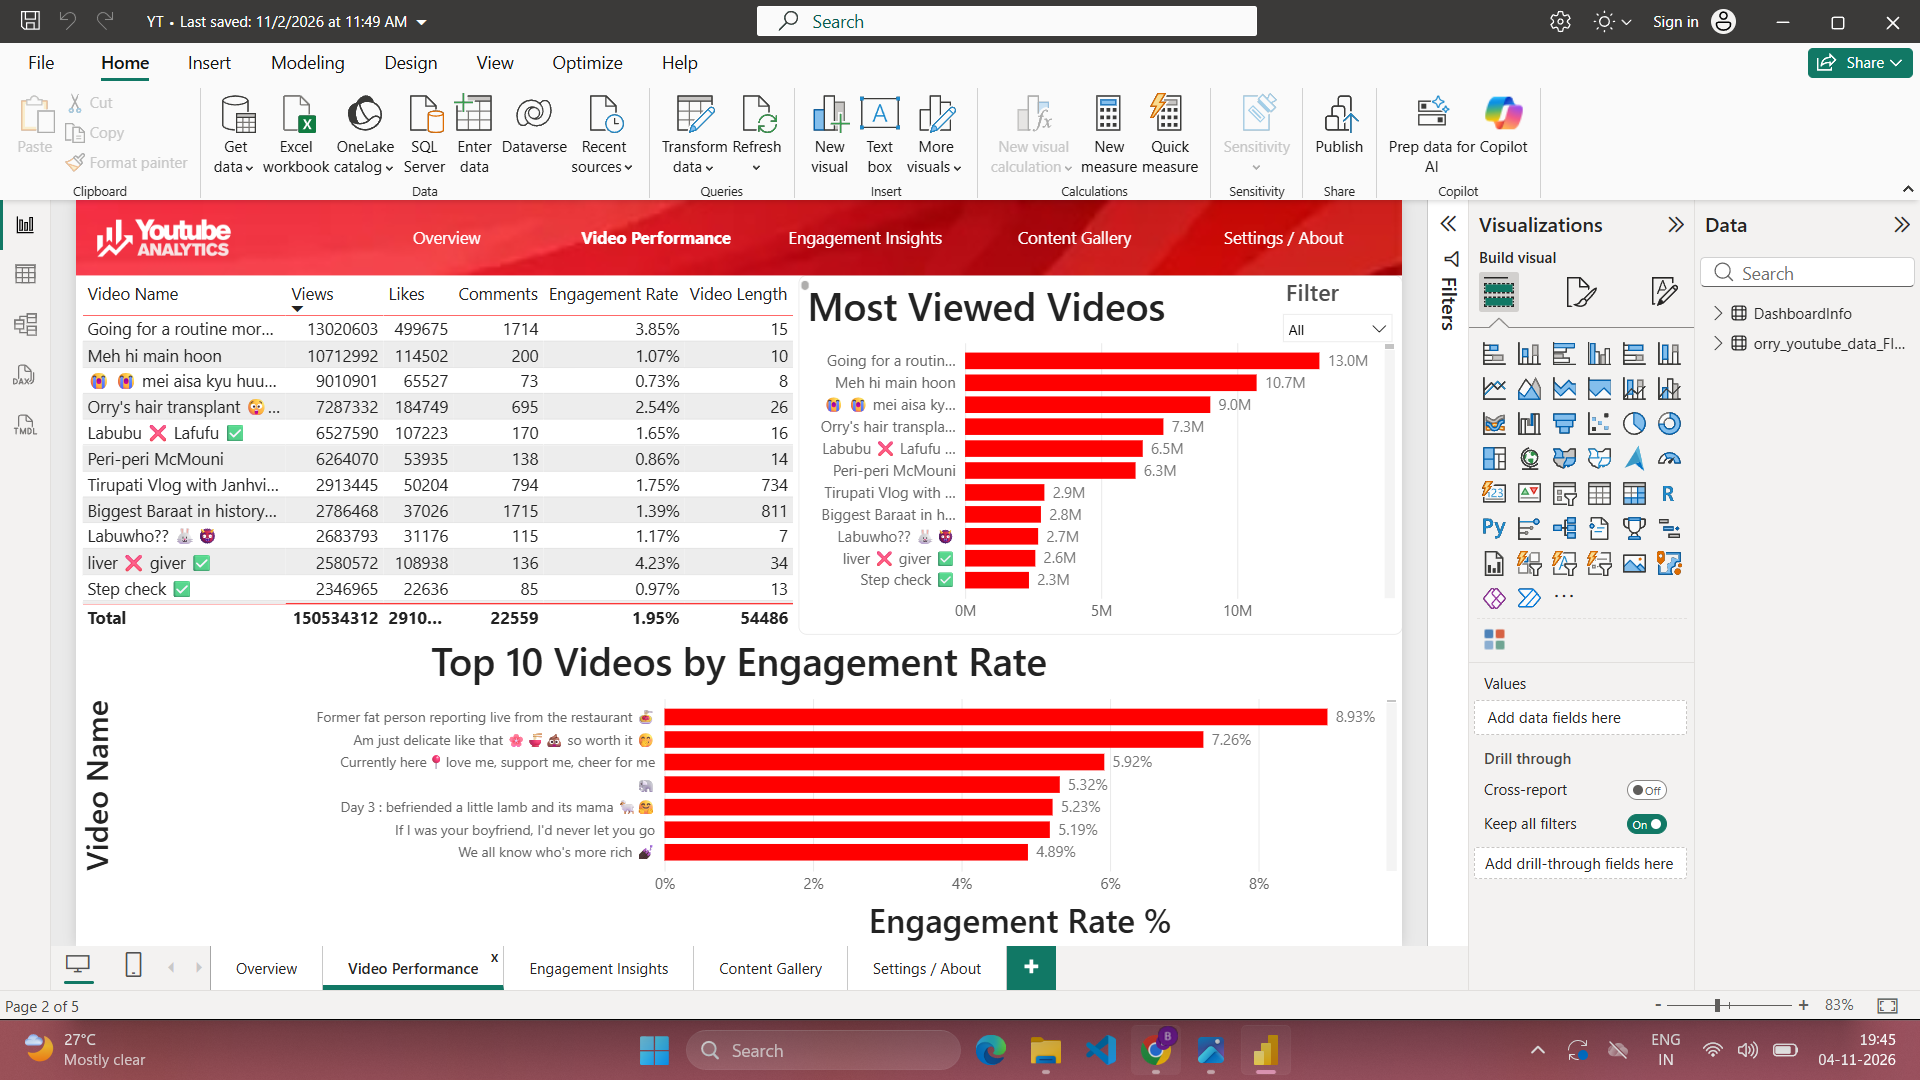

Layout of this report page (visuals, bound fields, positions):
{"tool":"powerbi","page":{"name":"Video Performance","canvas":[1280,720],"ordinal":1},"visuals":[{"type":"tableEx","fields":{"Values":["orry_youtube_data_FINAL.video_name","Sum(orry_youtube_data_FINAL.sum_of_views)","Sum(orry_youtube_data_FINAL.sum_of_likes)","Sum(orry_youtube_data_FINAL.sum_of_comments)","orry_youtube_data_FINAL.Engagement Rate","Sum(orry_youtube_data_FINAL.video_length_sec)"]},"box":[0,72.9,712.9,347.1],"z":0},{"type":"clusteredBarChart","title":"Most Viewed Videos","fields":{"Category":["orry_youtube_data_FINAL.video_name"],"Y":["Sum(orry_youtube_data_FINAL.sum_of_views)"]},"box":[697.1,72.9,582.9,347.1],"z":1000},{"type":"clusteredBarChart","title":"Top 10 Videos by Engagement Rate","fields":{"Category":["orry_youtube_data_FINAL.video_name"],"Y":["orry_youtube_data_FINAL.Engagement Rate"]},"box":[0,419.8,1280,300.4],"z":2000},{"type":"actionButton","box":[0,0,100,40],"z":3000},{"type":"image","box":[0,0,1280,72.9],"z":4000},{"type":"pageNavigator","box":[261.9,12.5,1001.2,47.5],"z":5000},{"type":"image","box":[16.2,0,151.2,72.5],"z":6000},{"type":"slicer","fields":{"Values":["orry_youtube_data_FINAL.video_type","orry_youtube_data_FINAL.publish_date.Variation.Date Hierarchy.Month","orry_youtube_data_FINAL.Weekday Name"]},"box":[1154.3,72.9,125.7,68.6],"z":7000}]}

Visuals, with their boxes on the page's 1280x720 design canvas (x1, y1, x2, y2). These are canvas units, not pixel positions in the 1920x1080 screenshot, which may show the page scaled, cropped or inside an application window:
tableEx - orry_youtube_data_FINAL.video_name x Sum(orry_youtube_data_FINAL.sum_of_views): (x1=0, y1=73, x2=713, y2=420)
"Most Viewed Videos" clusteredBarChart: (x1=697, y1=73, x2=1280, y2=420)
"Top 10 Videos by Engagement Rate" clusteredBarChart: (x1=0, y1=420, x2=1280, y2=720)
actionButton: (x1=0, y1=0, x2=100, y2=40)
image: (x1=0, y1=0, x2=1280, y2=73)
pageNavigator: (x1=262, y1=12, x2=1263, y2=60)
image: (x1=16, y1=0, x2=167, y2=72)
slicer - orry_youtube_data_FINAL.video_type x orry_youtube_data_FINAL.publish_date.Variation.Date Hierarchy.Month: (x1=1154, y1=73, x2=1280, y2=142)
